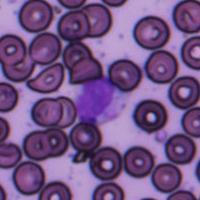M: (73, 76, 129, 125)
